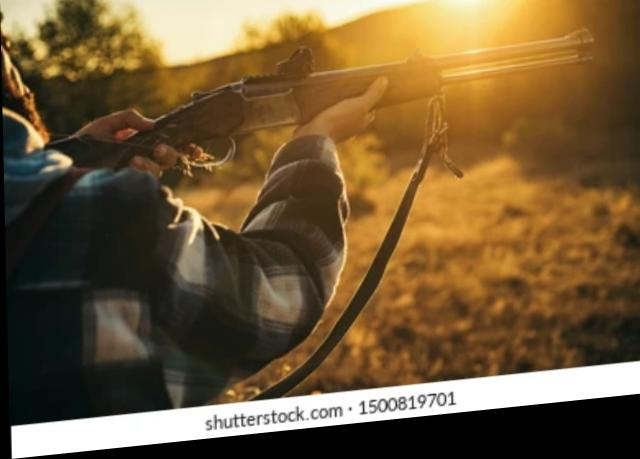other: (0, 0, 323, 420)
